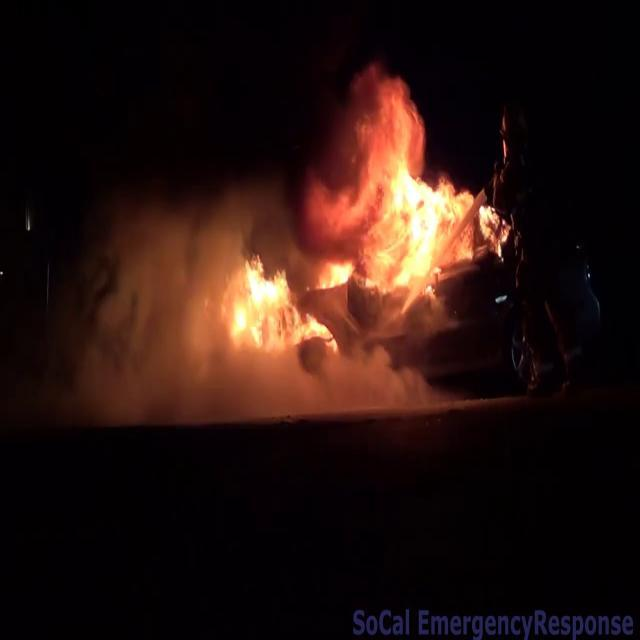Fire: (314, 66, 511, 298), (236, 258, 341, 366)
Smoke: (78, 192, 319, 424)
